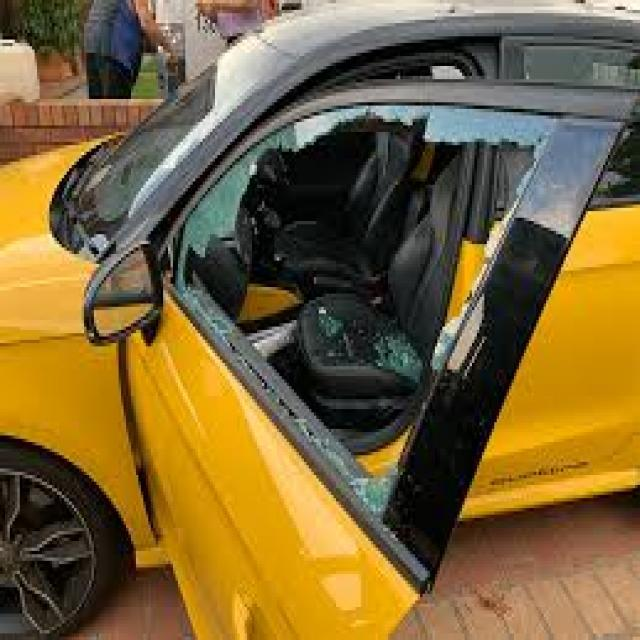damaged-window: (160, 97, 563, 516)
